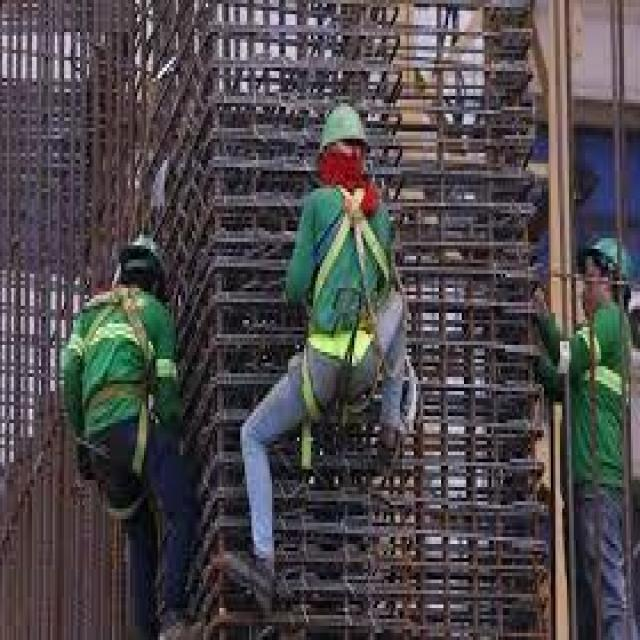Reflective-Jacket: (41, 274, 194, 501), (288, 174, 411, 398)
Safety-Helmet: (306, 89, 379, 167), (574, 224, 638, 292)
